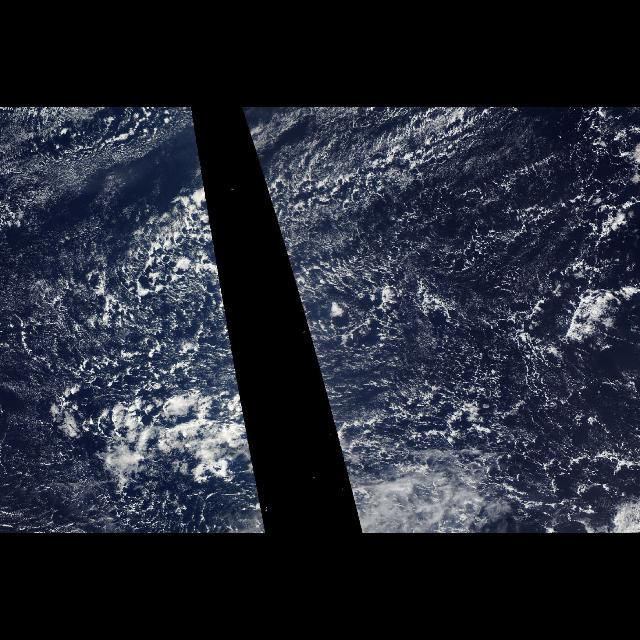Gravel: (253, 112, 637, 470), (39, 203, 241, 533)
